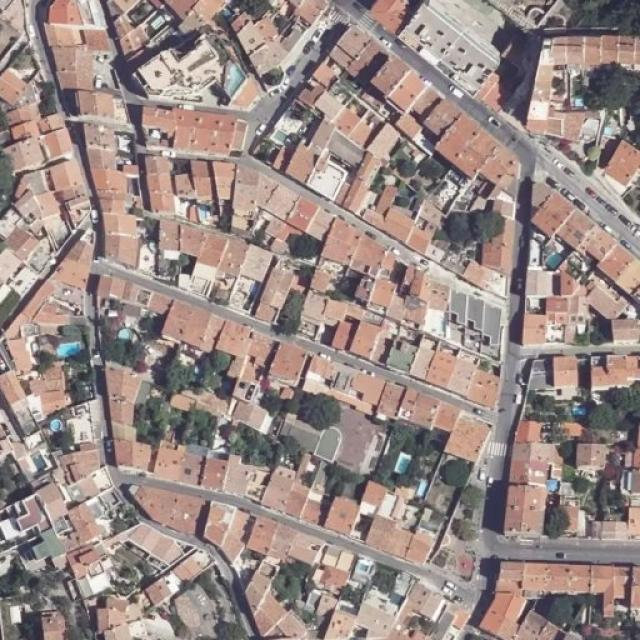immeuble: (531, 38, 640, 148), (98, 511, 197, 588), (204, 314, 286, 394), (140, 104, 254, 158), (232, 559, 306, 640), (430, 101, 511, 174), (366, 505, 446, 576), (365, 488, 436, 564), (415, 385, 485, 462), (340, 317, 430, 376), (153, 294, 233, 360), (263, 340, 349, 401), (147, 46, 222, 110), (571, 545, 640, 613), (423, 344, 497, 407), (225, 11, 287, 86), (434, 274, 496, 348), (289, 479, 368, 537), (322, 212, 389, 280), (532, 180, 596, 246), (109, 428, 186, 482), (207, 169, 276, 229), (238, 456, 311, 511), (478, 590, 556, 640), (364, 45, 426, 107), (399, 88, 461, 150), (102, 358, 150, 438), (258, 180, 316, 246), (484, 481, 551, 538), (376, 374, 448, 426), (250, 258, 310, 320), (199, 504, 260, 564), (174, 444, 249, 492), (586, 222, 640, 288), (338, 580, 399, 638), (402, 585, 466, 640), (225, 238, 280, 301), (334, 367, 401, 418), (374, 256, 423, 324), (501, 559, 589, 596), (295, 278, 357, 330), (45, 154, 92, 222), (298, 65, 354, 122), (58, 444, 122, 493), (368, 200, 429, 250), (48, 3, 108, 52), (294, 539, 348, 591), (504, 432, 560, 482), (12, 481, 68, 531), (324, 21, 385, 66), (56, 86, 121, 128), (18, 278, 70, 328), (516, 344, 576, 387), (94, 273, 158, 312), (274, 520, 332, 563), (306, 589, 354, 640), (84, 588, 131, 640), (49, 49, 102, 95), (488, 199, 522, 268), (55, 493, 98, 546), (140, 160, 182, 214), (156, 225, 212, 265), (549, 274, 595, 320), (0, 220, 45, 267), (22, 370, 72, 412), (106, 212, 140, 272), (176, 158, 222, 202), (58, 536, 102, 579), (34, 117, 76, 162), (528, 298, 564, 350), (166, 542, 208, 586), (453, 261, 502, 298), (243, 512, 280, 558), (94, 160, 126, 213), (16, 176, 52, 223), (117, 16, 156, 59), (60, 235, 92, 287), (572, 442, 624, 474), (586, 357, 640, 387), (587, 274, 625, 315), (0, 102, 42, 139), (136, 569, 172, 612), (557, 500, 590, 546), (605, 306, 640, 348), (0, 133, 40, 169), (81, 127, 123, 160), (609, 138, 640, 182), (178, 0, 216, 35), (2, 341, 39, 375), (285, 0, 319, 35), (32, 608, 69, 638), (592, 519, 639, 540), (0, 68, 26, 104), (0, 372, 28, 404), (512, 418, 546, 440)
piscine: (218, 61, 250, 98), (542, 240, 572, 274), (56, 340, 92, 362), (189, 201, 218, 225), (392, 448, 412, 476), (389, 590, 413, 613), (264, 125, 289, 147), (115, 321, 136, 342), (357, 554, 373, 576), (560, 407, 590, 418), (415, 477, 430, 498), (42, 415, 63, 429), (570, 93, 586, 109), (602, 122, 618, 137)
